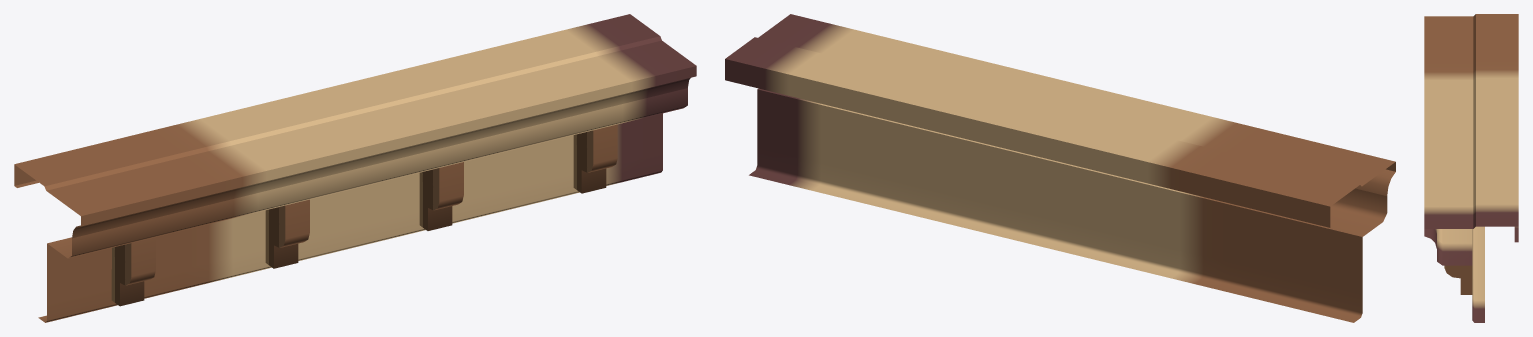
File: DBK_Cornice_B_Full.fbx
3 renders of one model, left to right at view 1: azimuth 30°, elevation 25°; view 2: azimuth 150°, elevation 25°; view 3: azimuth 270°, elevation 25°, orthographic. The views are drawn at different scales.
Parts seen in each view (by area): view 1: DBK_Cornice_B_Full; view 2: DBK_Cornice_B_Full; view 3: DBK_Cornice_B_Full.
Boxes of the visible parts, x1,y1,x2,y2 form: DBK_Cornice_B_Full: (14,14,696,322); DBK_Cornice_B_Full: (725,14,1395,322); DBK_Cornice_B_Full: (1424,14,1518,322).
Bounding box in the file's own units: 300 × 63.25 × 56.29.
